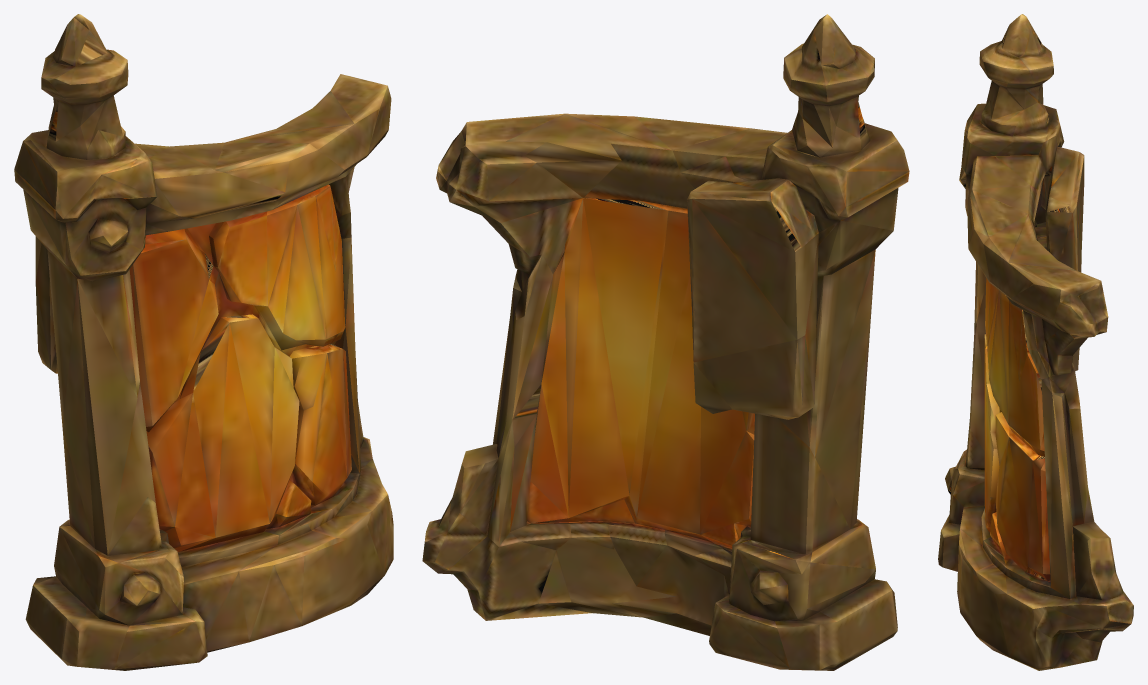
File: lantern-shard.low.glb
3 views of the same model, side by side, from view 1: azimuth 30°, elevation 25°; view 2: azimuth 150°, elevation 25°; view 3: azimuth 270°, elevation 25° (orthographic). The views are drawn at different scales.
Visible parts, largest first — view 1: output_unwrapped; view 2: output_unwrapped; view 3: output_unwrapped.
Part boxes in pixels (bbox=[...]): output_unwrapped: bbox=[14, 14, 393, 670]; output_unwrapped: bbox=[422, 14, 909, 670]; output_unwrapped: bbox=[938, 14, 1133, 670].
Bounding box in the file's own units: 1.24 × 1.9 × 0.6377.
1 material, 1 textured.
